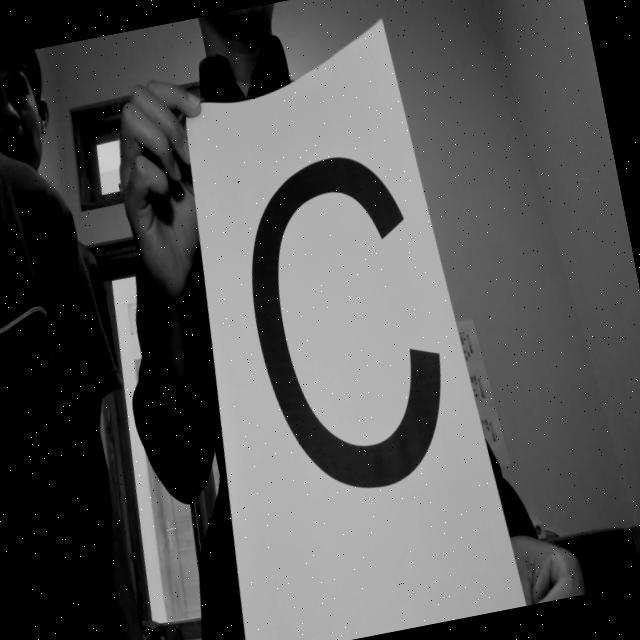c: (222, 126, 468, 503)
